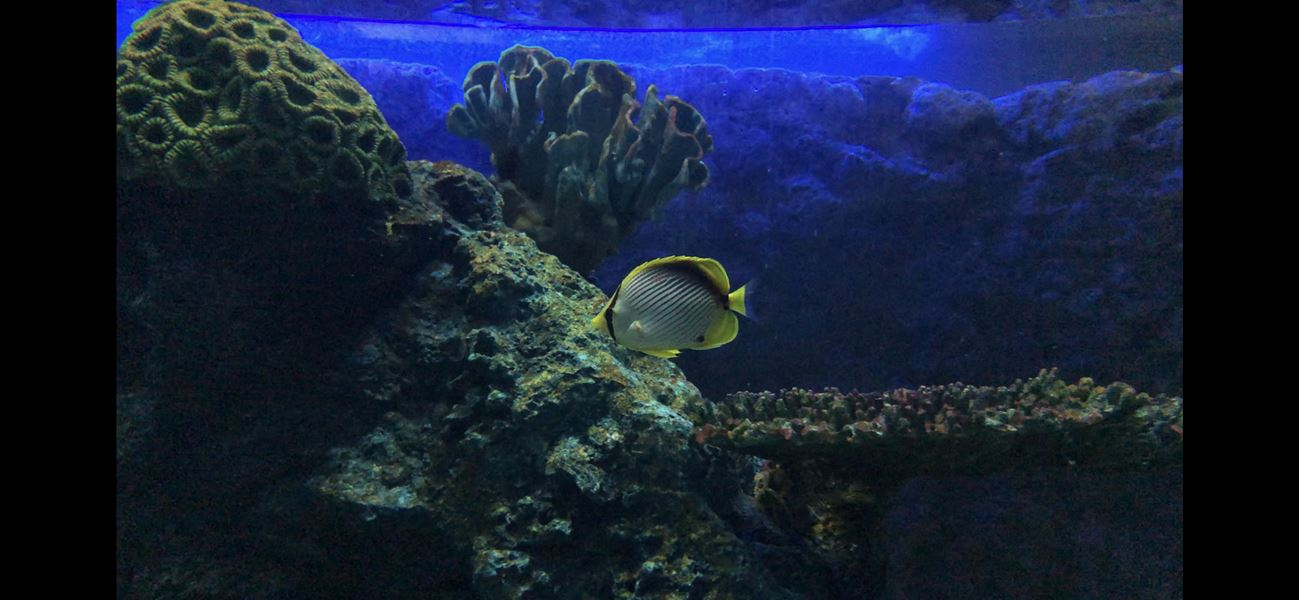Black-backed butterflyfish: (578, 244, 776, 369)
